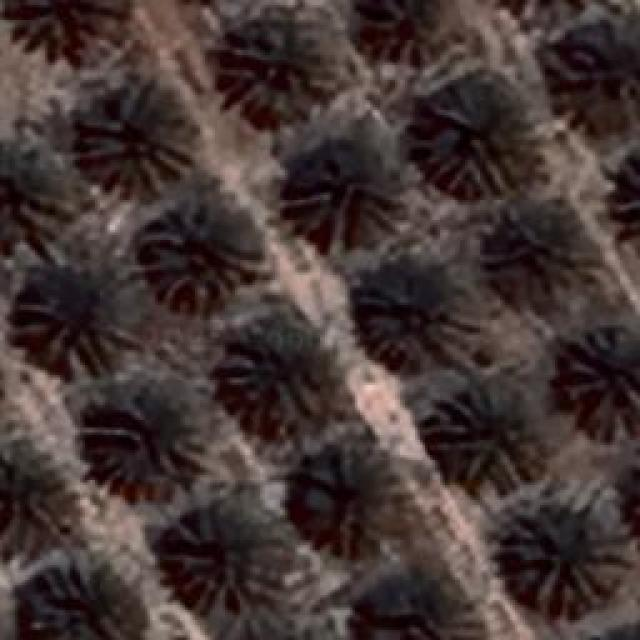PalmTree: (31, 78, 624, 200), (430, 385, 545, 493), (505, 510, 620, 615), (80, 88, 198, 190), (145, 202, 260, 300), (282, 152, 402, 245), (215, 22, 328, 120), (160, 512, 270, 612), (231, 328, 334, 432), (17, 268, 122, 370), (85, 398, 200, 490), (358, 280, 480, 365), (298, 454, 400, 552), (422, 97, 520, 195), (560, 325, 638, 440), (25, 560, 133, 638), (498, 211, 588, 299), (0, 145, 68, 243), (357, 587, 480, 640), (5, 0, 120, 55), (0, 441, 52, 553), (365, 0, 440, 62), (624, 444, 640, 549), (576, 619, 640, 640), (576, 623, 640, 640), (630, 448, 640, 548)
